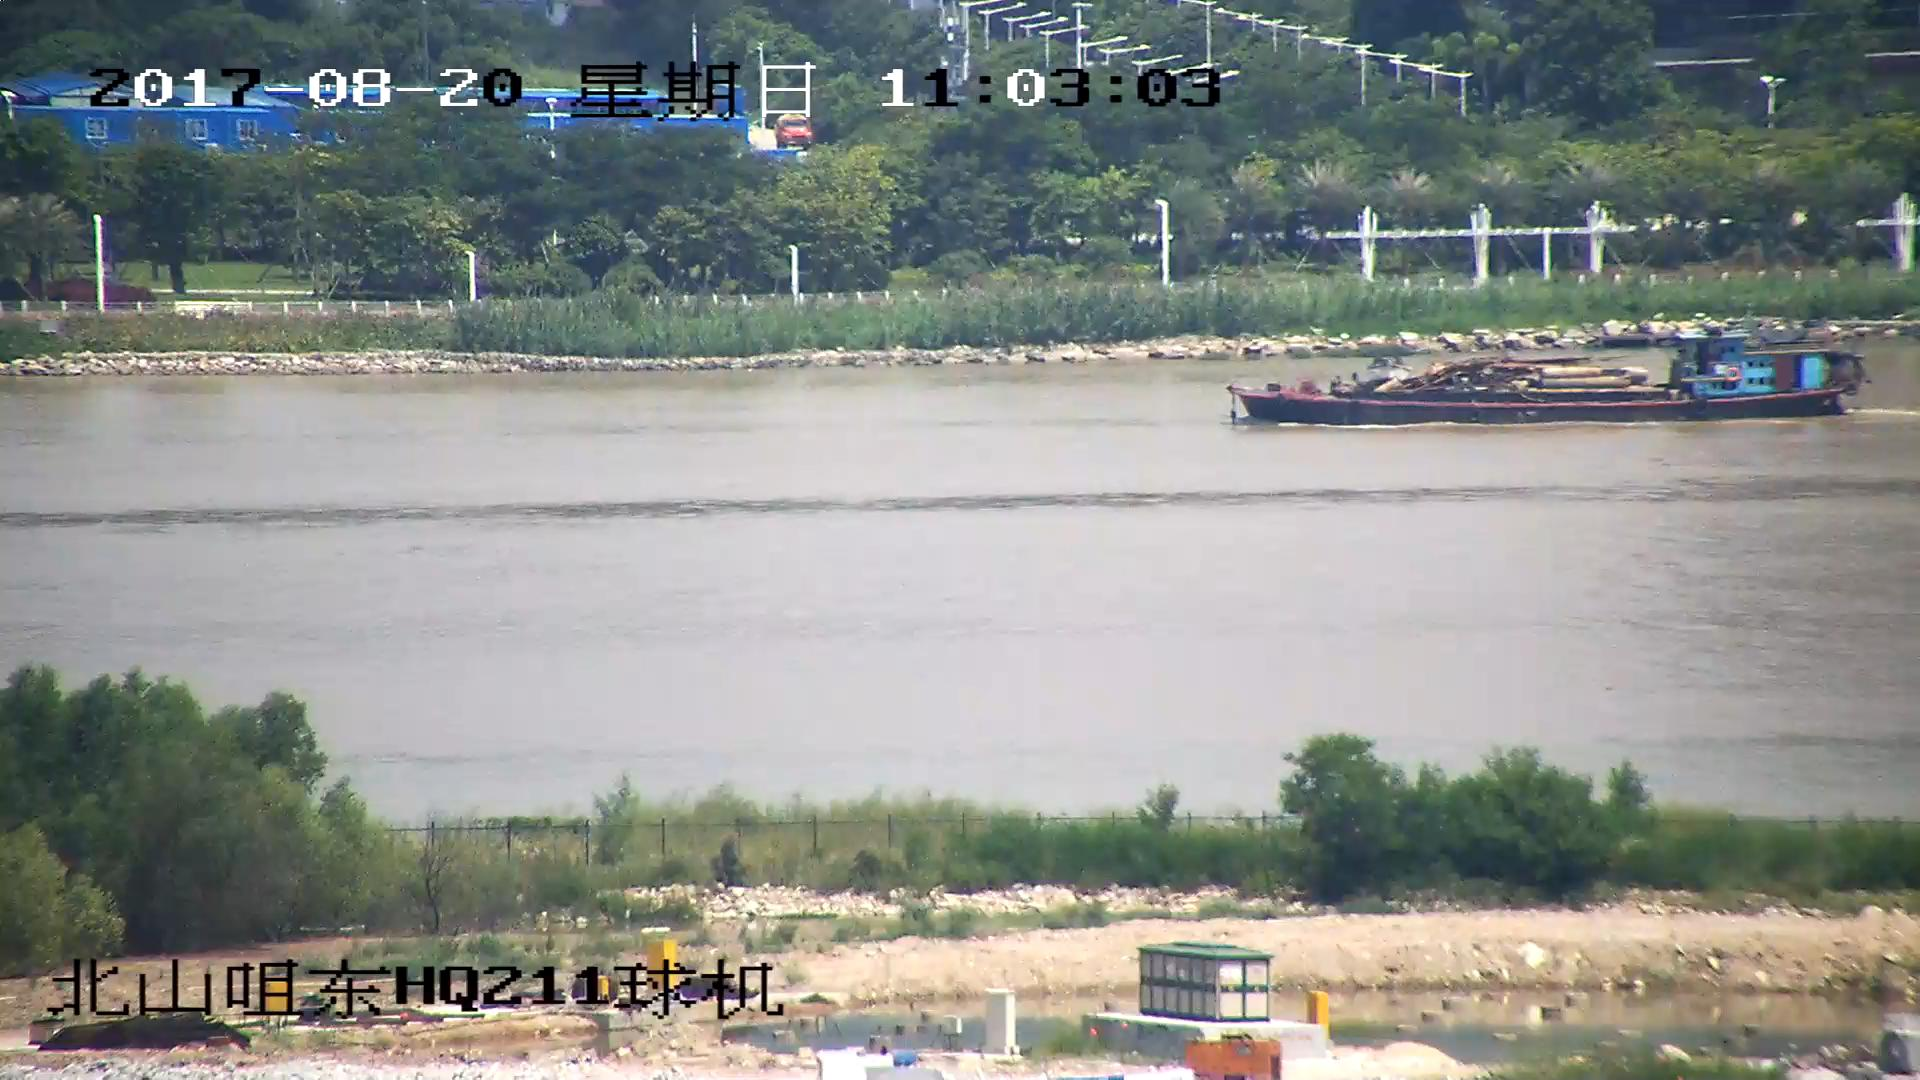bulk cargo carrier: (1237, 336, 1868, 427)
